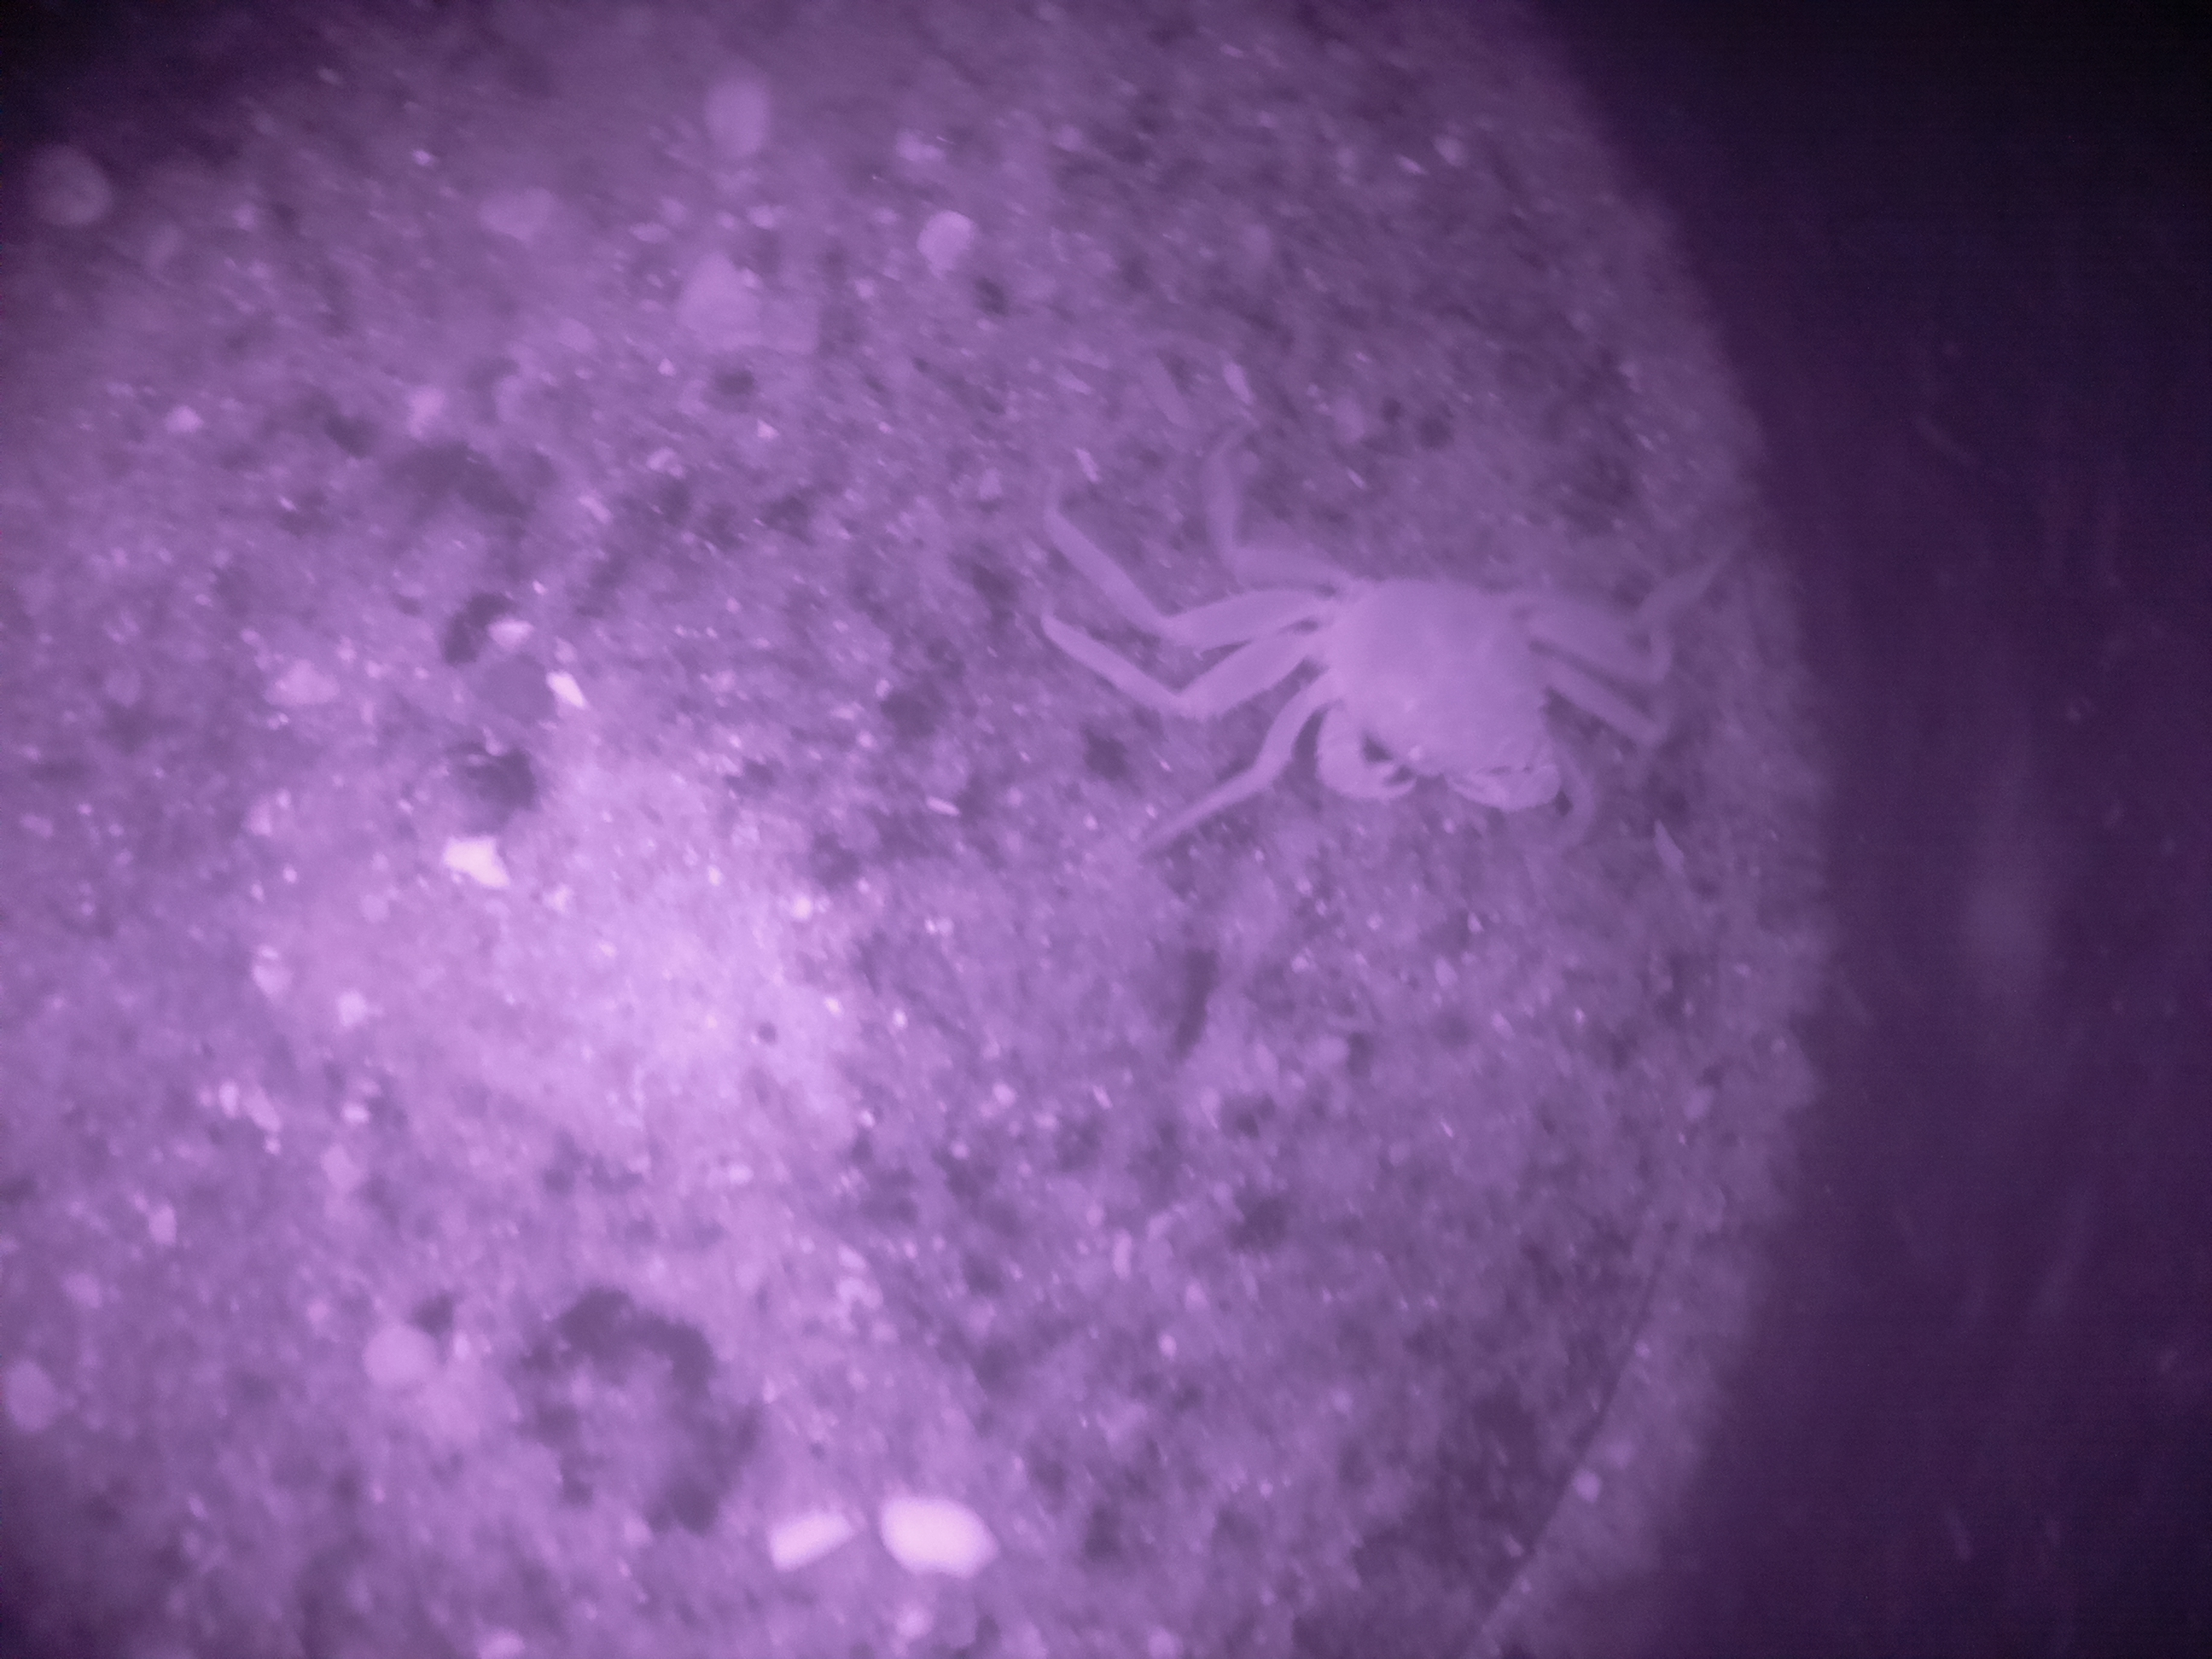Crab: (1256, 439, 1625, 894)
